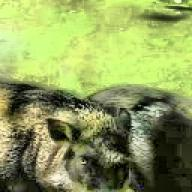boar: (0, 55, 142, 192), (45, 81, 192, 192)
